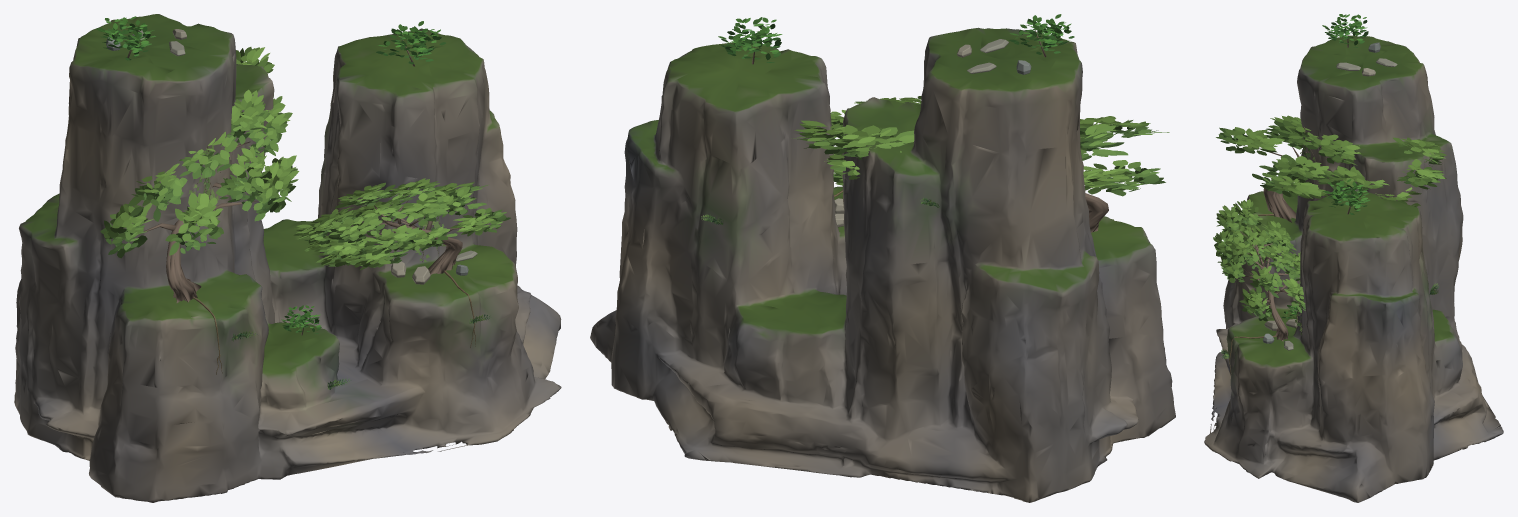
Rendered from khe-reu.glb.
3 views of the same model, side by side, from view 1: azimuth 30°, elevation 25°; view 2: azimuth 150°, elevation 25°; view 3: azimuth 270°, elevation 25° (orthographic). The views are drawn at different scales.
Parts seen in each view (by area): view 1: Vân Sơn · continuous eroded crag, swept 00 leaves, swept 01 leaves, swept 00 trunk, shrub 03 leaves, shrub 02 leaves, swept 01 trunk, shrub 04 leaves; view 2: Vân Sơn · continuous eroded crag, swept 00 leaves, shrub 03 leaves, shrub 02 leaves; view 3: Vân Sơn · continuous eroded crag, swept 00 leaves, swept 01 leaves, shrub 03 leaves, shrub 02 leaves, swept 01 trunk, swept 00 trunk.
Part boxes in pixels (left/top/right/bottom): Vân Sơn · continuous eroded crag: left=14, top=14, right=561, bottom=502; swept 00 leaves: left=100, top=47, right=299, bottom=258; swept 01 leaves: left=293, top=178, right=510, bottom=270; swept 00 trunk: left=140, top=141, right=257, bottom=302; shrub 03 leaves: left=376, top=21, right=445, bottom=64; shrub 02 leaves: left=96, top=16, right=155, bottom=60; swept 01 trunk: left=366, top=200, right=463, bottom=274; shrub 04 leaves: left=281, top=305, right=321, bottom=333; Vân Sơn · continuous eroded crag: left=590, top=27, right=1175, bottom=502; swept 00 leaves: left=791, top=96, right=1169, bottom=196; shrub 03 leaves: left=718, top=17, right=782, bottom=62; shrub 02 leaves: left=1009, top=14, right=1074, bottom=54; Vân Sơn · continuous eroded crag: left=1204, top=35, right=1503, bottom=502; swept 00 leaves: left=1216, top=115, right=1446, bottom=206; swept 01 leaves: left=1213, top=199, right=1305, bottom=321; shrub 03 leaves: left=1322, top=179, right=1370, bottom=214; shrub 02 leaves: left=1322, top=14, right=1368, bottom=47; swept 01 trunk: left=1237, top=227, right=1299, bottom=341; swept 00 trunk: left=1258, top=147, right=1299, bottom=222.
Bounding box in the file's own units: 29.25 × 22.28 × 18.81.
